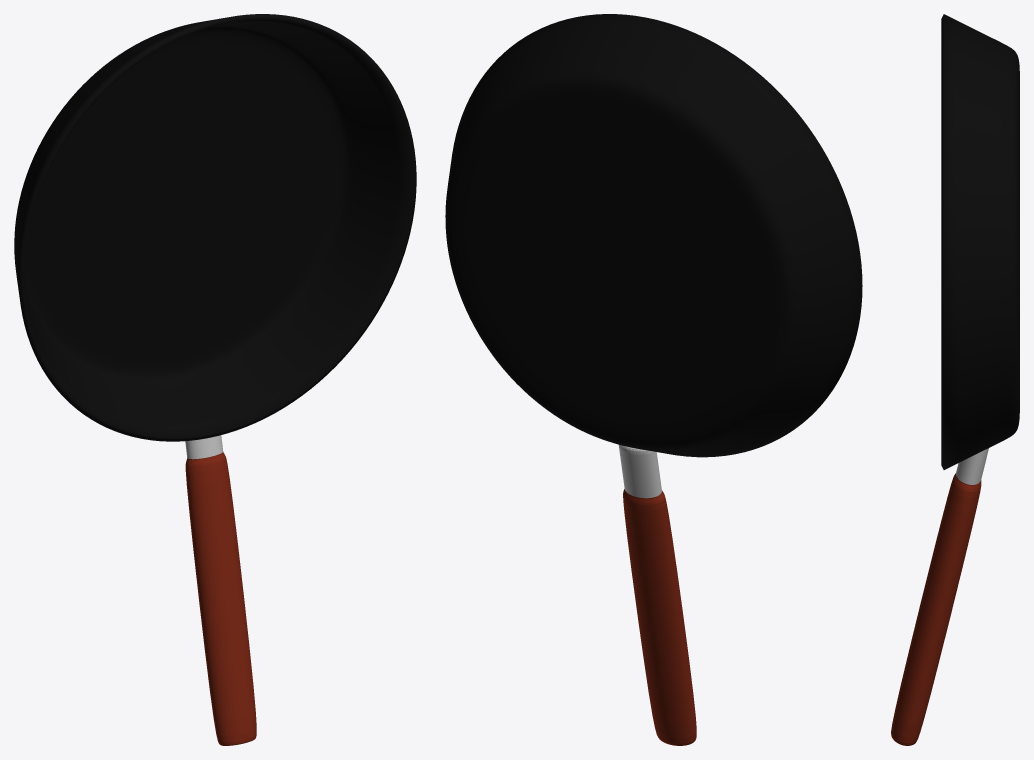
File: pan.obj
3 renders of one model, left to right at view 1: azimuth 30°, elevation 25°; view 2: azimuth 150°, elevation 25°; view 3: azimuth 270°, elevation 25°, orthographic. The views are drawn at different scales.
Parts seen in each view (by area): view 1: Pan, Handle; view 2: Pan, Handle; view 3: Pan, Handle.
Part boxes in pixels (x1=…): Pan: x1=14, y1=14, x2=416, y2=441; Handle: x1=185, y1=435, x2=256, y2=745; Pan: x1=445, y1=14, x2=862, y2=457; Handle: x1=618, y1=444, x2=696, y2=745; Pan: x1=941, y1=14, x2=1019, y2=469; Handle: x1=891, y1=448, x2=988, y2=745.
Size of the model in its own units: 0.2381 by 0.4058 by 0.0672.
